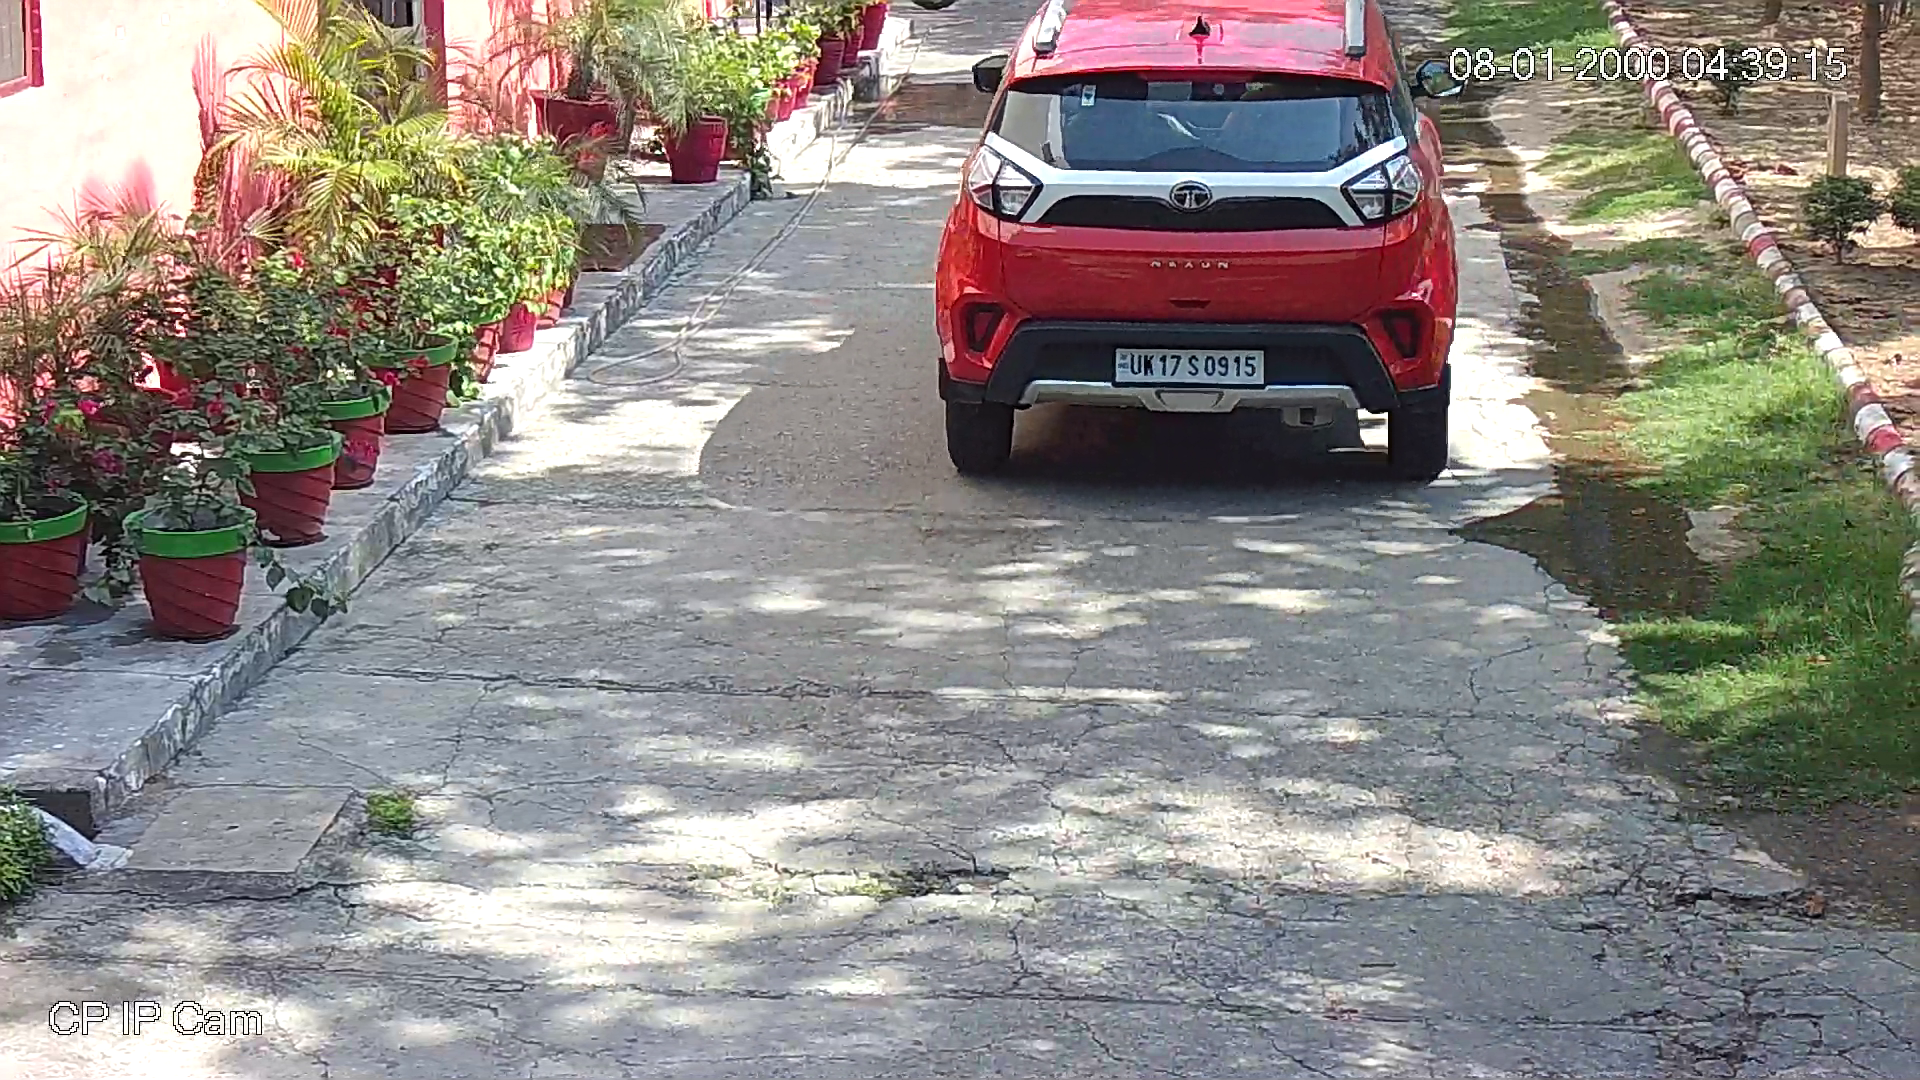plate: (1106, 340, 1270, 386)
